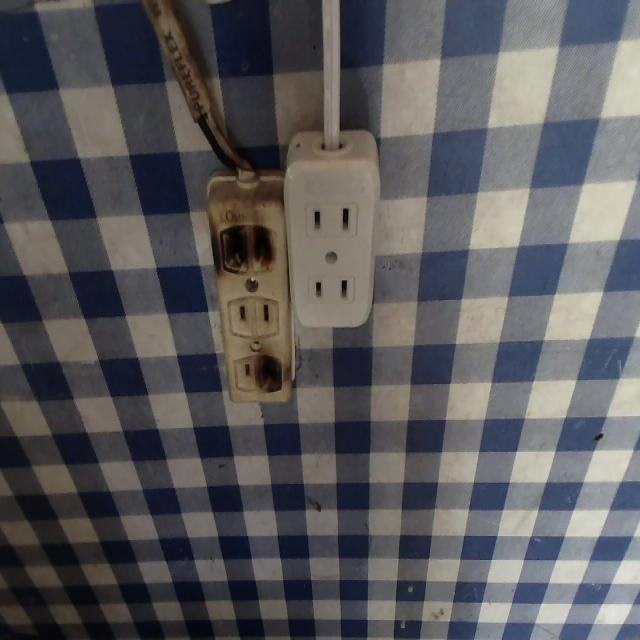-: (213, 221, 278, 272), (252, 352, 285, 393)
